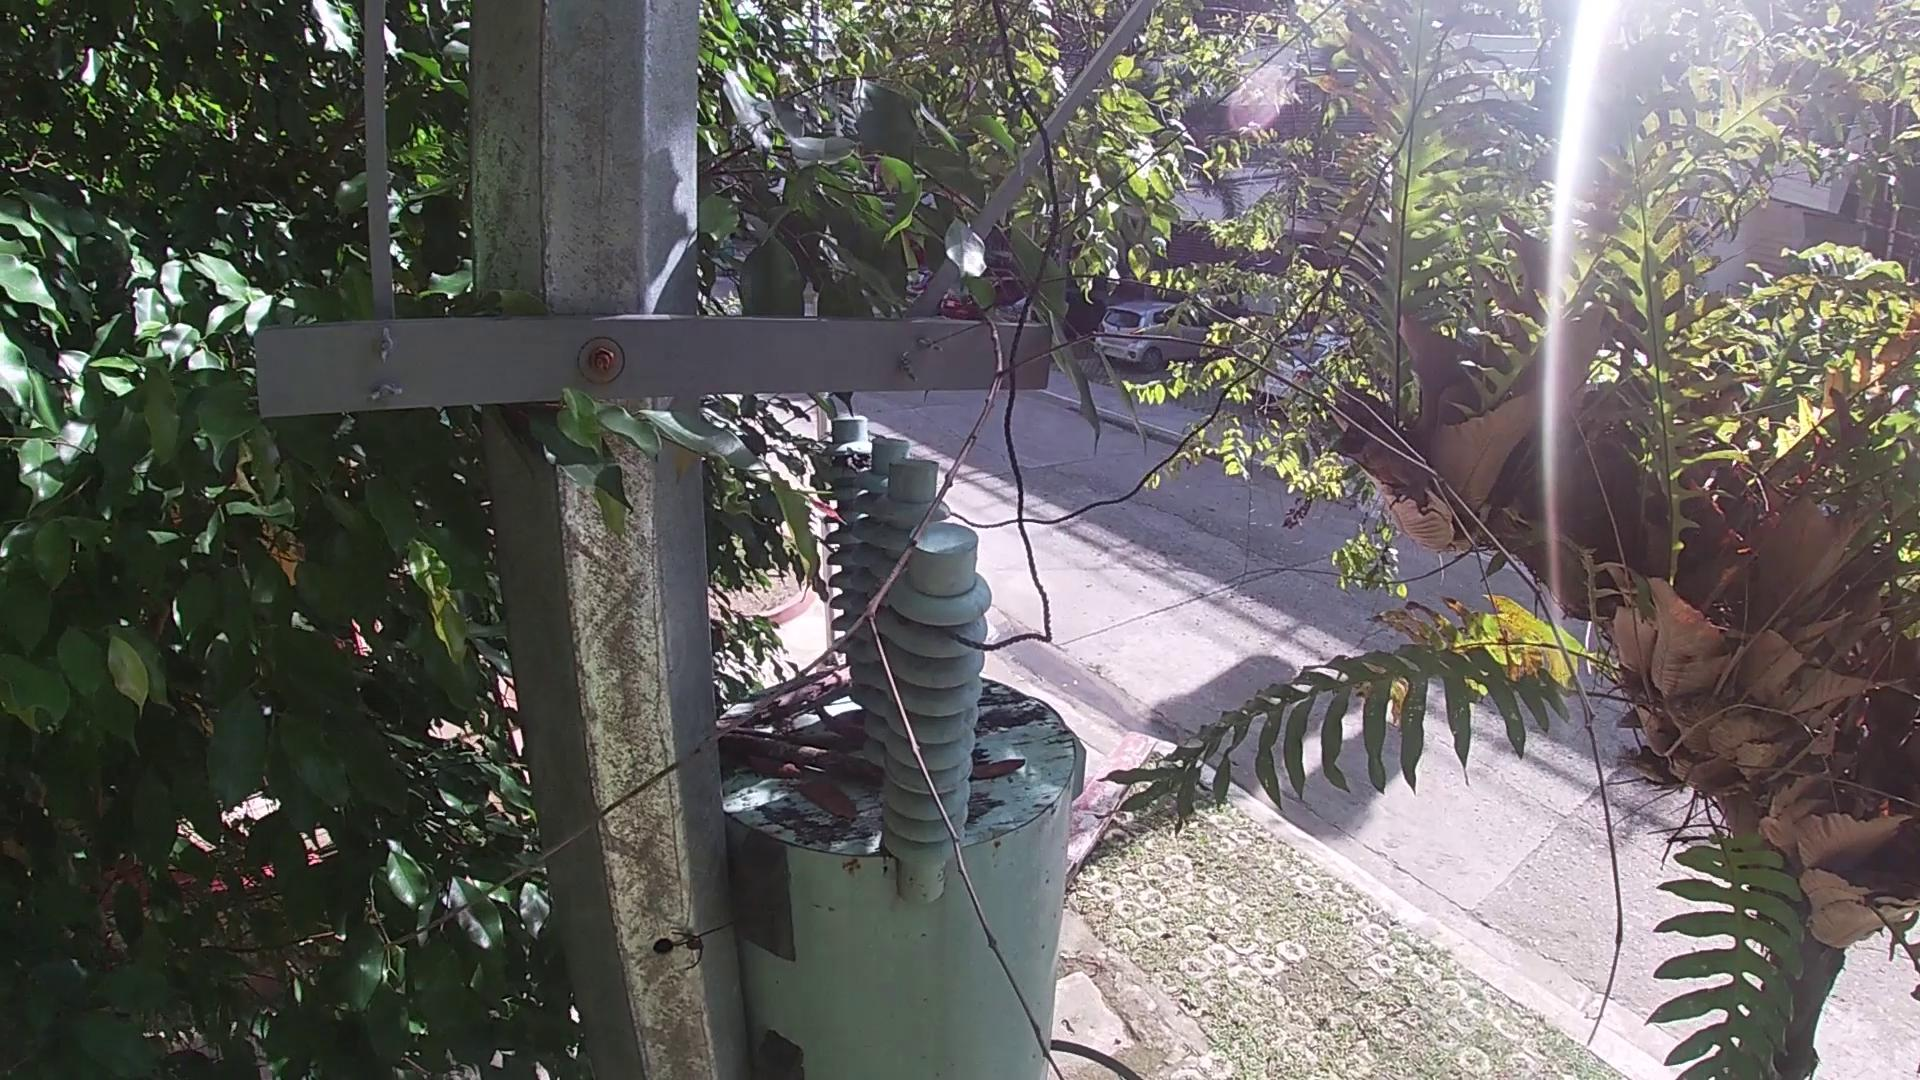leaf: (786, 774, 862, 824), (738, 752, 804, 783), (967, 756, 1030, 781)
tree branch: (380, 260, 1634, 1077), (713, 727, 880, 789), (760, 665, 853, 729)
